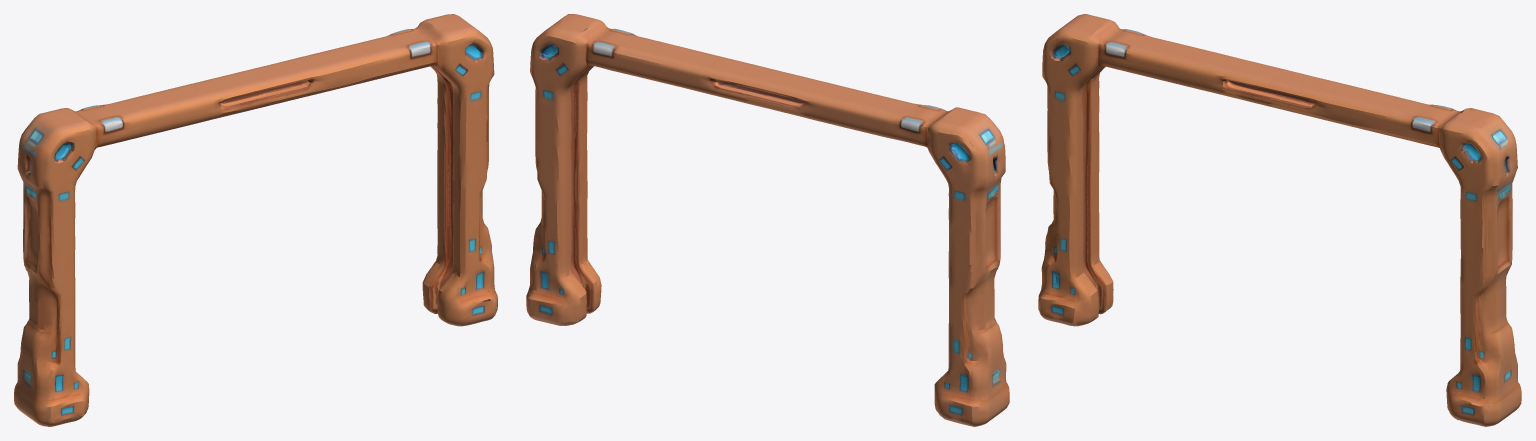
File: Trigger Wall - A_texture.fbx
The picture shows the model from 3 angles, left to right: view 1: azimuth 30°, elevation 25°; view 2: azimuth 150°, elevation 25°; view 3: azimuth 330°, elevation 25°; orthographic projection.
Visible parts, largest first — view 1: Mesh0; view 2: Mesh0; view 3: Mesh0.
Part boxes in pixels (<box>): Mesh0: <box>14,14,497,426</box>; Mesh0: <box>526,14,1009,426</box>; Mesh0: <box>1038,14,1521,426</box>.
Bounding box in the file's own units: 192 × 116 × 25.03.
1 material, 1 textured.
